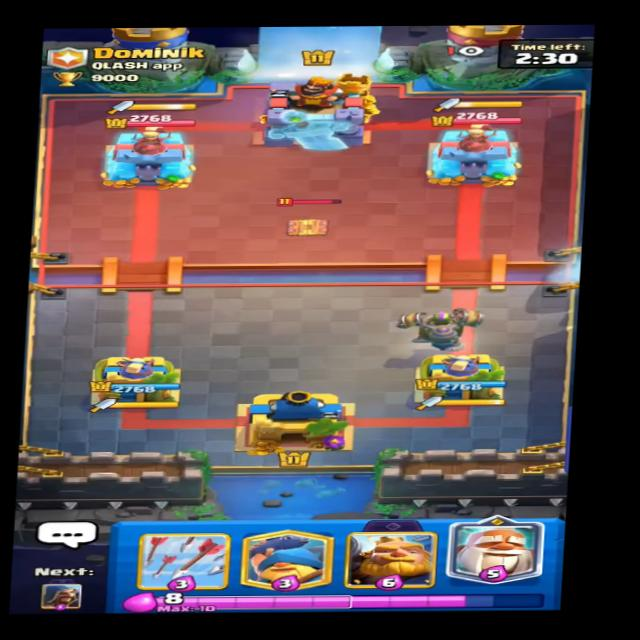tesla-closed: (265, 191, 354, 240)
